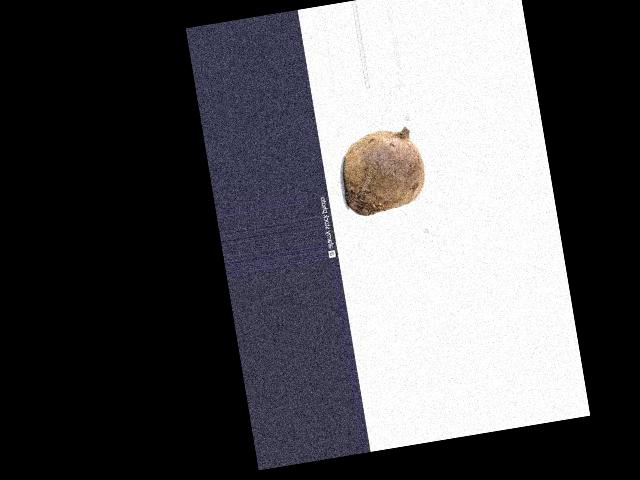beet: (336, 124, 429, 218)
